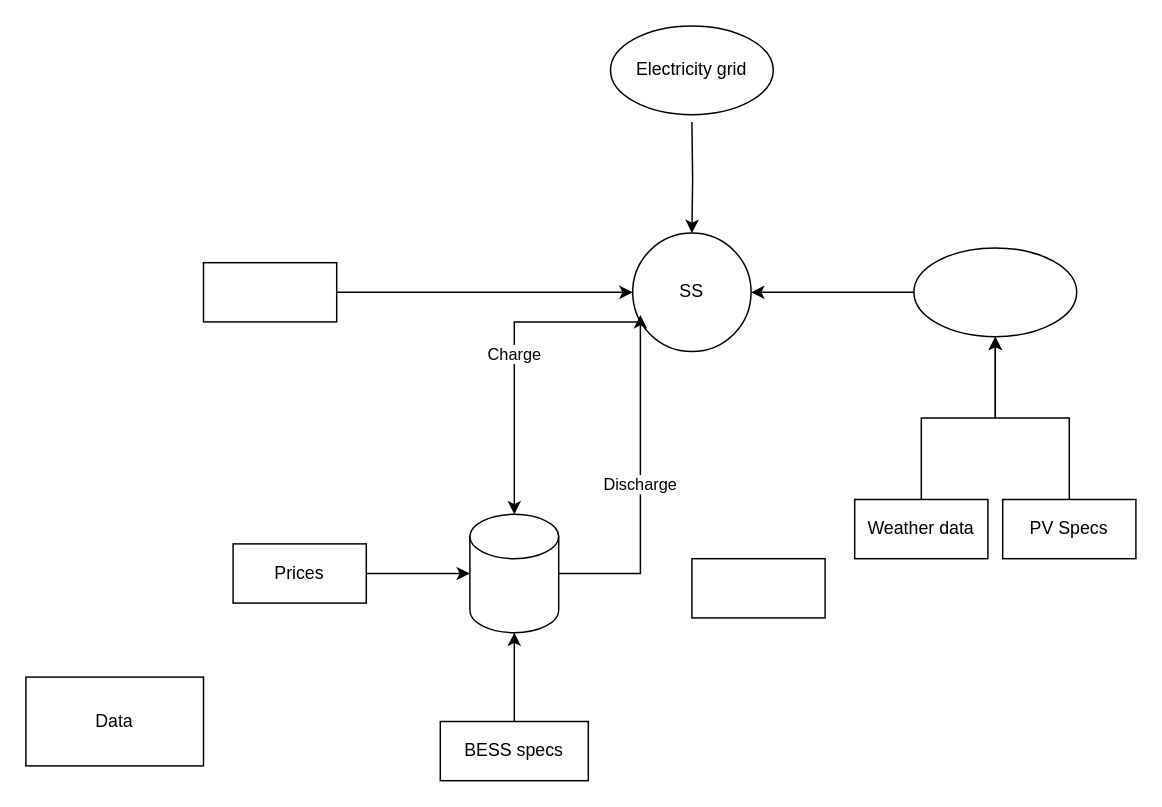
Some shapes in this 1162 by 807 pixel diagram are drawn without their labels. Each missing label, with the centre of its shape:
BESS: the point at 513,573
Load: the point at 269,291
Load with waiting list: the point at 757,587
PV: the point at 994,291
